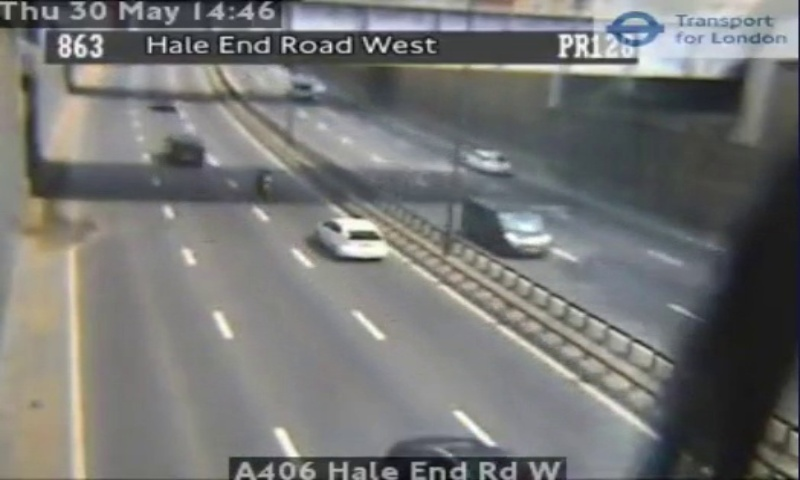car: (316, 218, 387, 257)
